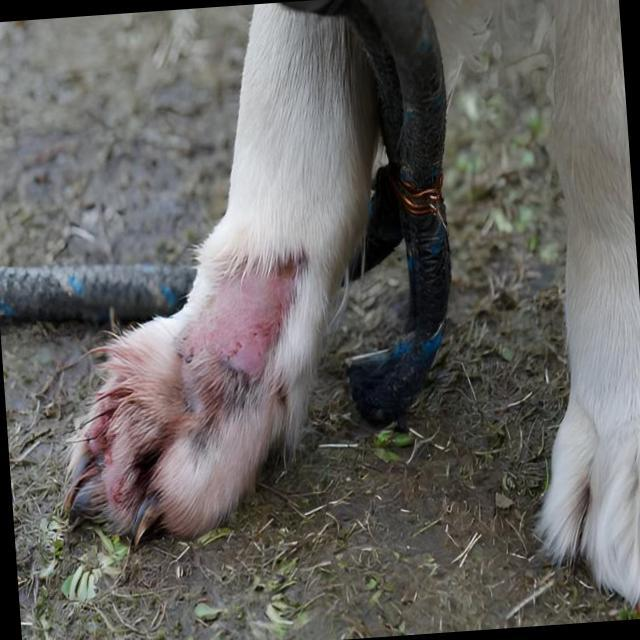allergic dermatitis: (179, 252, 289, 413)
